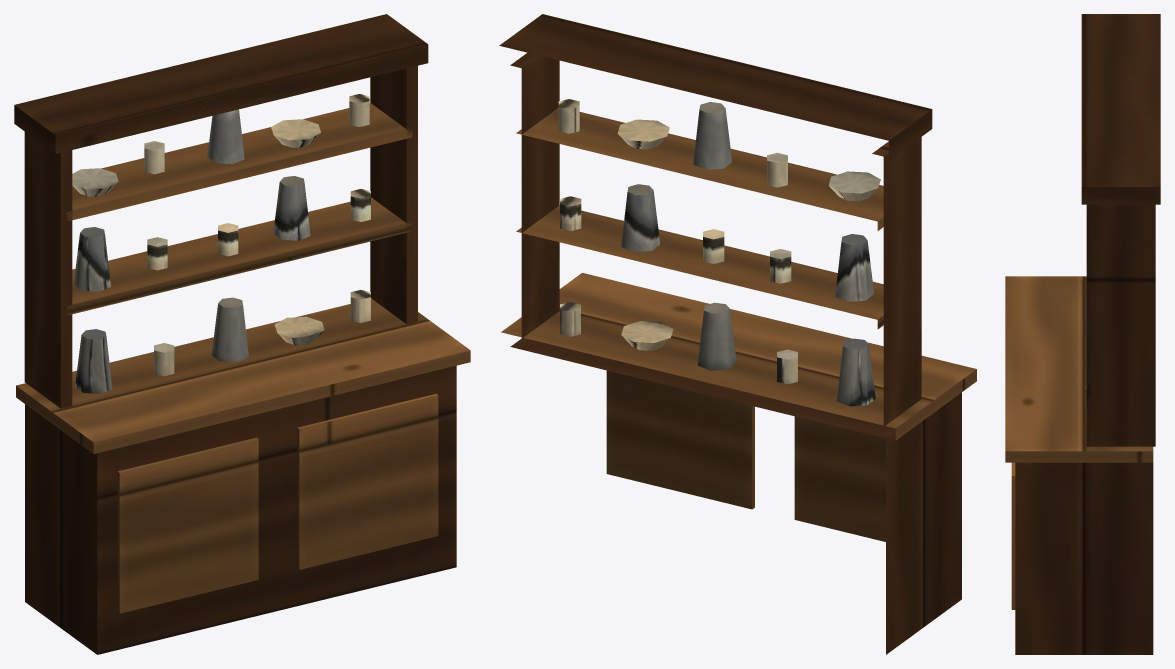
The model's file is kitchen_dresser.glb.
The picture shows the model from 3 angles, left to right: view 1: azimuth 30°, elevation 25°; view 2: azimuth 150°, elevation 25°; view 3: azimuth 270°, elevation 25°; orthographic projection. The views are drawn at different scales.
Visible parts, largest first — view 1: kitchen_dresser_mesh; view 2: kitchen_dresser_mesh; view 3: kitchen_dresser_mesh.
Part boxes in pixels (<box>): kitchen_dresser_mesh: <box>14,14,470,654</box>; kitchen_dresser_mesh: <box>499,14,976,654</box>; kitchen_dresser_mesh: <box>1005,14,1160,654</box>.
Size of the model in its own units: 1.68 by 2.11 by 0.63.
1 material, 1 textured.
